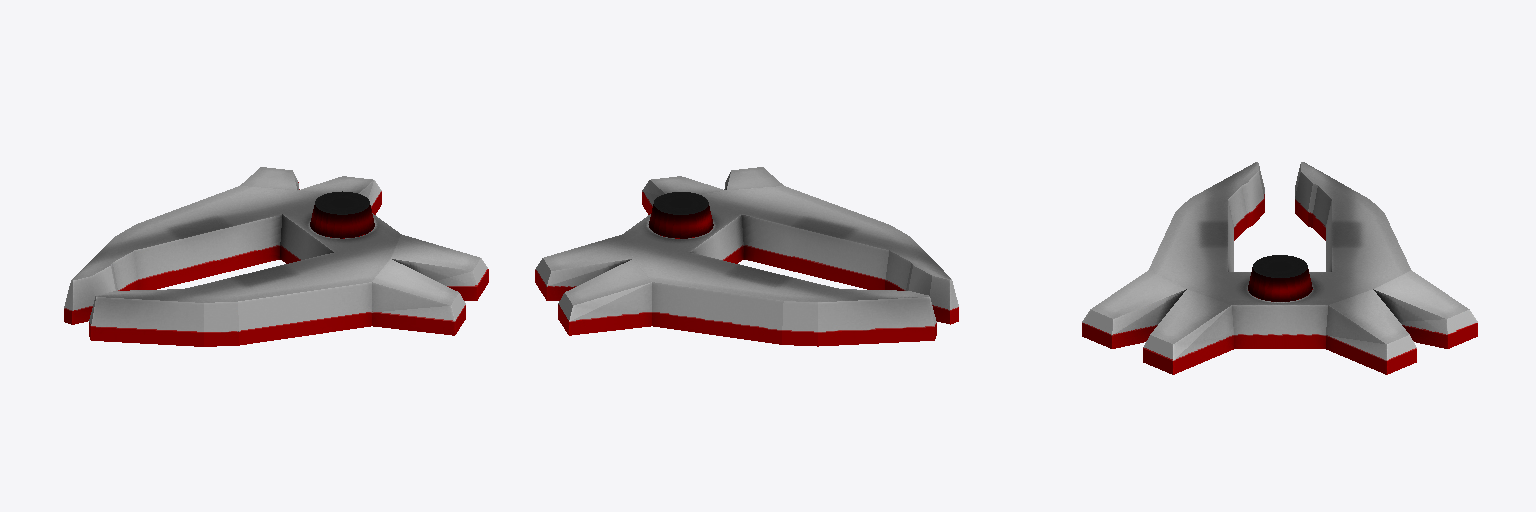
3 views of the same model, side by side, from view 1: azimuth 30°, elevation 25°; view 2: azimuth 150°, elevation 25°; view 3: azimuth 270°, elevation 25° (orthographic).
Parts seen in each view (by area): view 1: Line001.005; view 2: Line001.005; view 3: Line001.005.
Part boxes in pixels (bbox=[...]): Line001.005: bbox=[64, 167, 488, 346]; Line001.005: bbox=[535, 167, 958, 346]; Line001.005: bbox=[1082, 162, 1477, 374].
Size of the model in its own units: 12.23 by 2.06 by 11.72.
Materials: 1 (1 with a texture image).